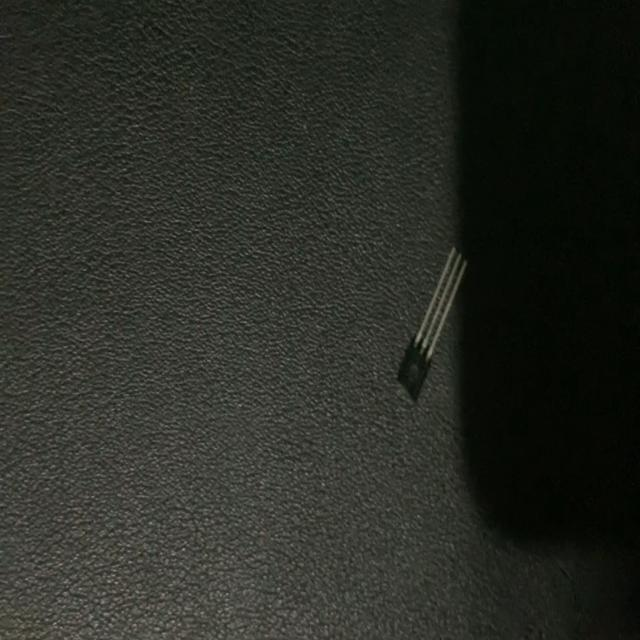BJT: (395, 244, 467, 408)
